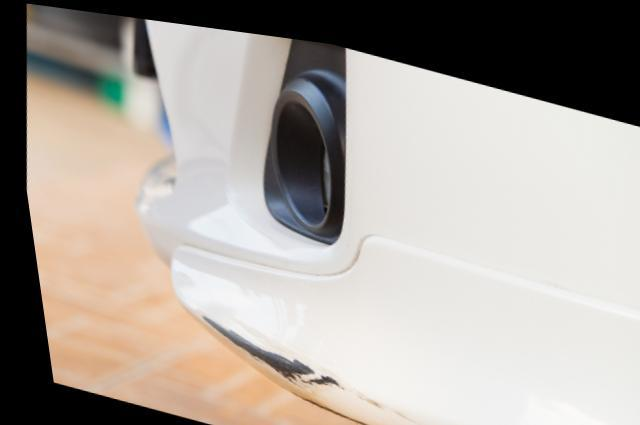scratch: (188, 308, 349, 387)
